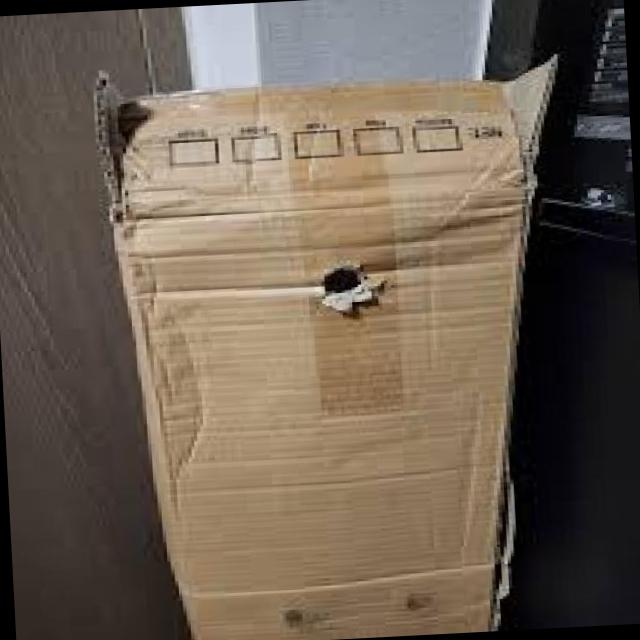box: (96, 52, 558, 638)
opened: (96, 52, 557, 198)
tear: (488, 462, 519, 630), (318, 261, 386, 316)
